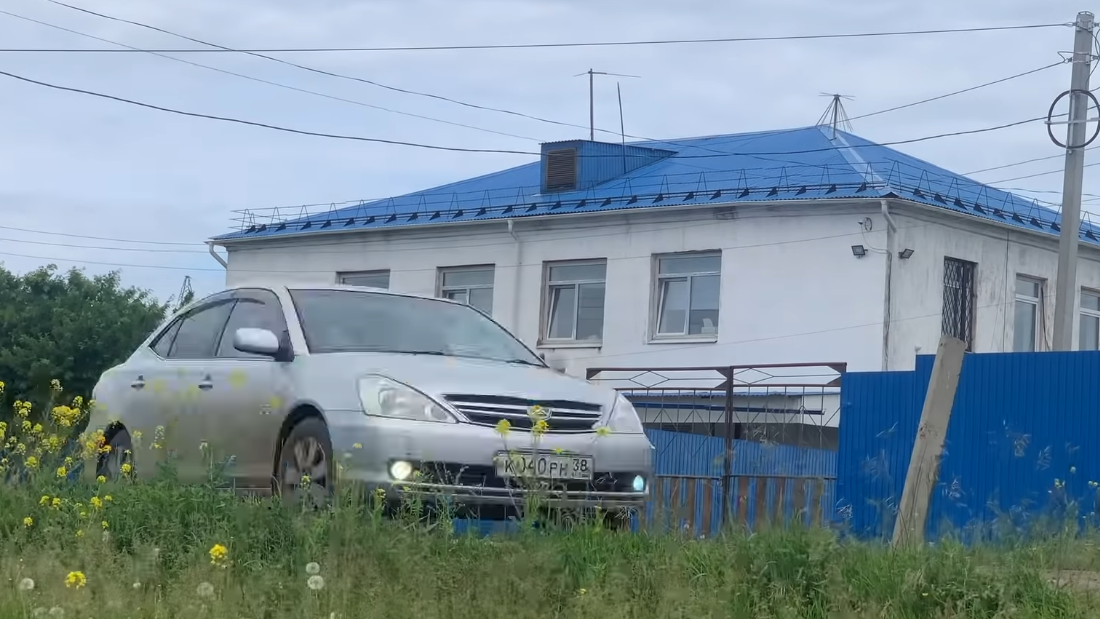non emergency car: (71, 279, 656, 522)
